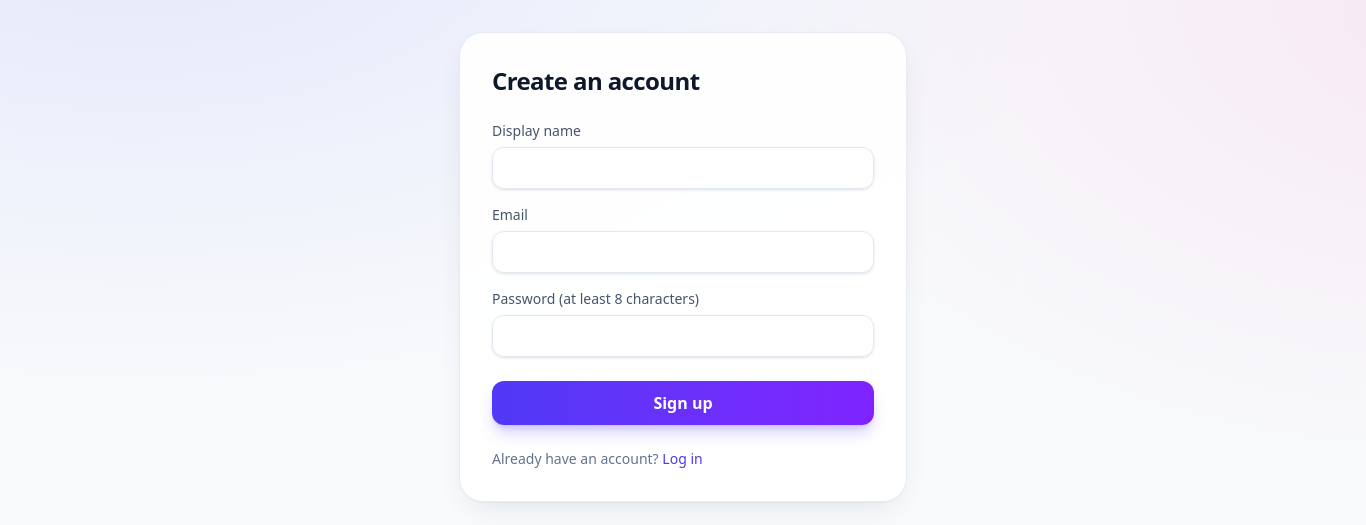
Scenario: RegisterForm › shows the check-your-inbox screen after signup and does not sign the user in
Type "Ann" into the field labelled "Display name". click: (683, 168)
box: left=492, top=147, right=874, bottom=189
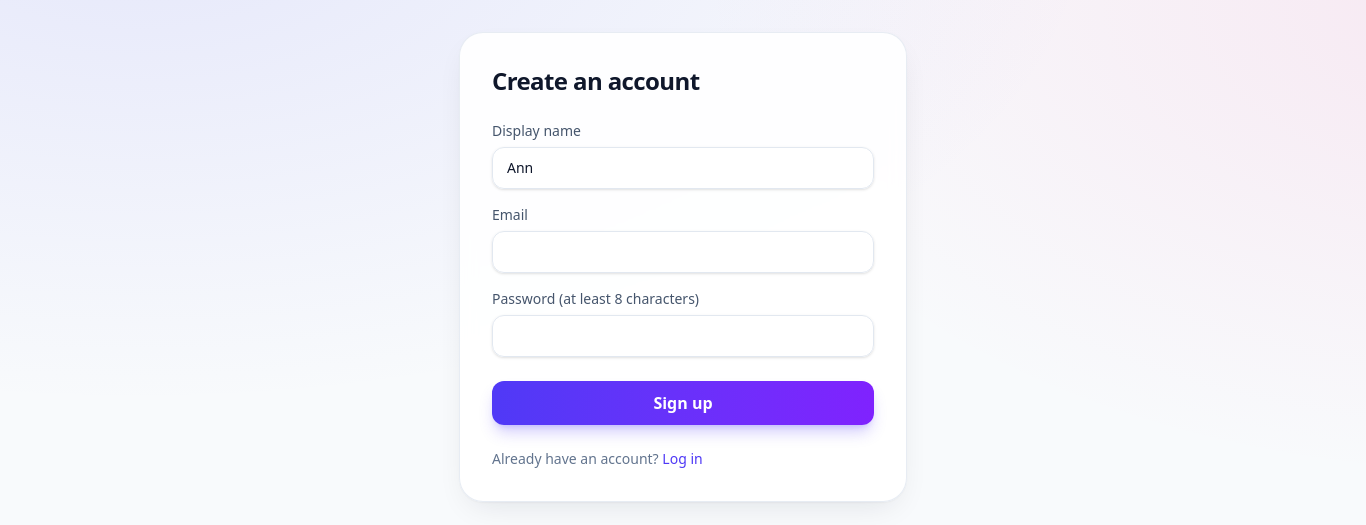
Type "ann@example.com" into the field labelled "Email". click: (683, 252)
box: left=492, top=231, right=874, bottom=273
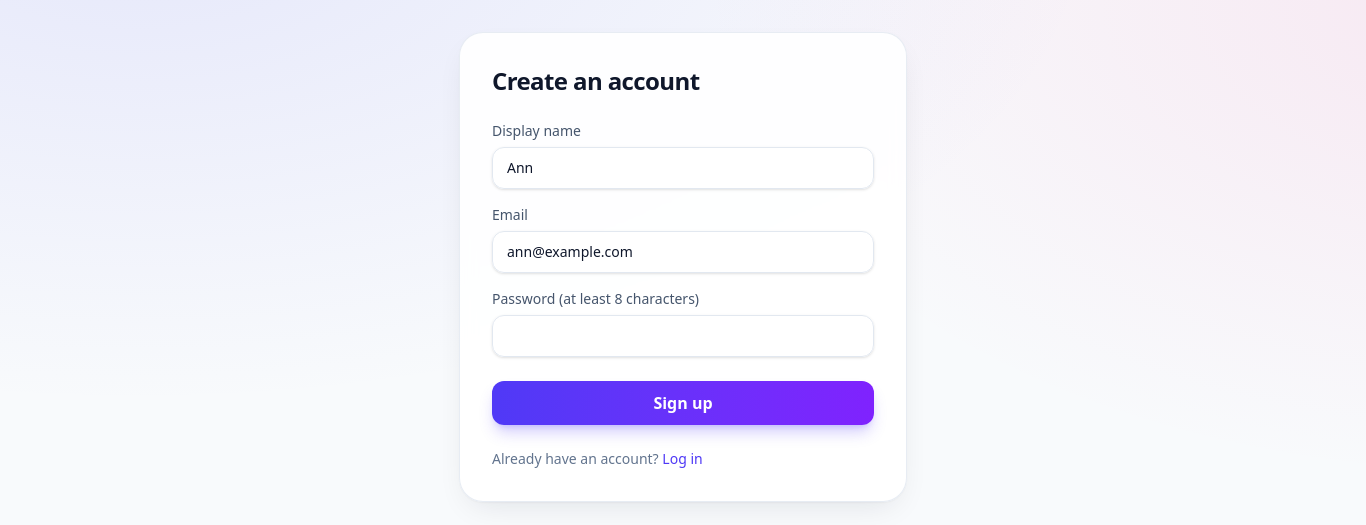
Type "password123" into the password field labelled "Password (at least 8 characters)". click: (683, 336)
box: left=492, top=315, right=874, bottom=357
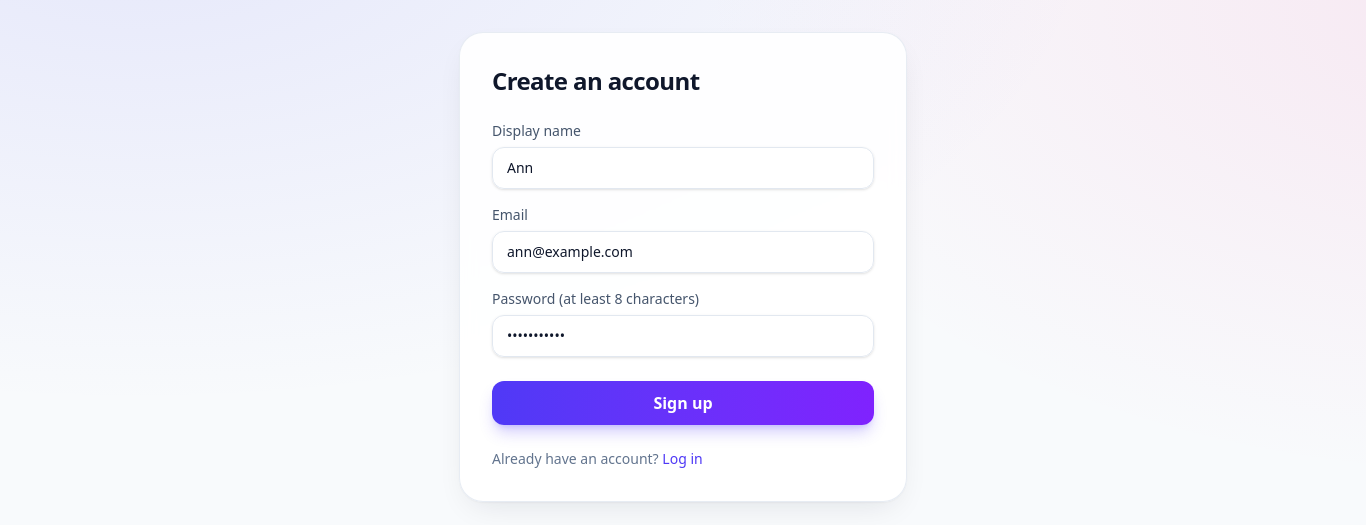
Click the button "Sign up". click: (683, 403)
box: left=492, top=381, right=874, bottom=425
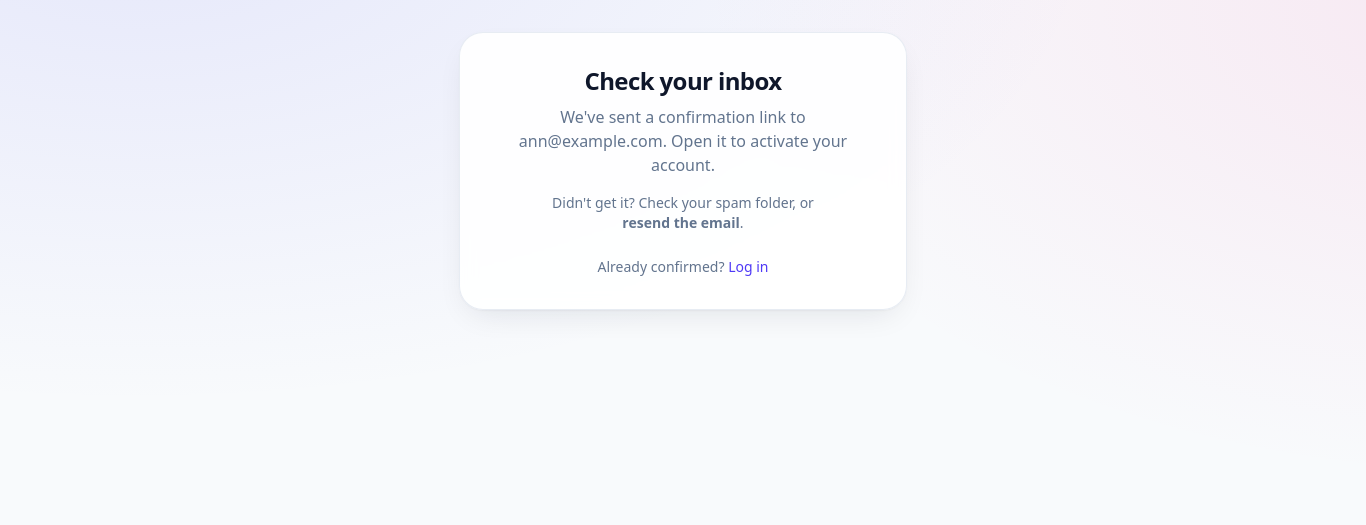
Result: the heading "Check your inbox" is shown at left=584, top=64, right=782, bottom=97
Result: the text "ann@example.com" is shown at left=519, top=130, right=663, bottom=152
Result: the button "Sign up" is gone
